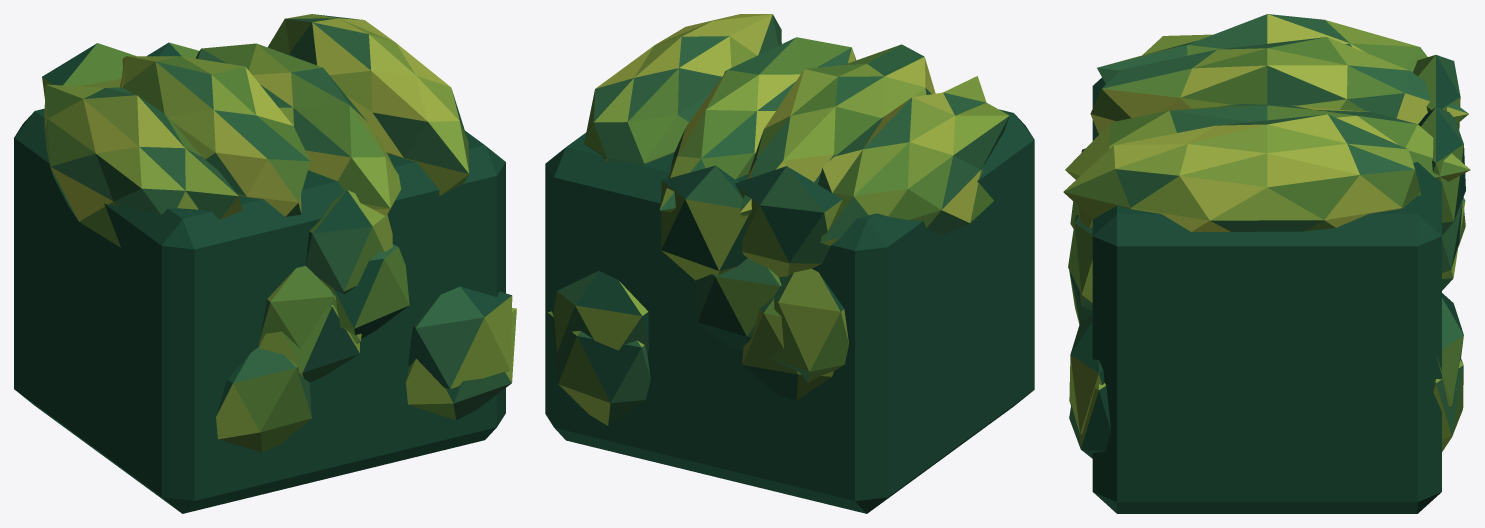
Rendered from grove_hedge.glb.
3 views of the same model, side by side, from view 1: azimuth 30°, elevation 25°; view 2: azimuth 150°, elevation 25°; view 3: azimuth 270°, elevation 25° (orthographic). The views are drawn at different scales.
Parts seen in each view (by area): view 1: grove_hedge; view 2: grove_hedge; view 3: grove_hedge.
Part boxes in pixels (box(x1,y1,x2,y2)): grove_hedge: box(14, 14, 516, 513); grove_hedge: box(545, 14, 1034, 513); grove_hedge: box(1063, 14, 1470, 513).
Bounding box in the file's own units: 2.05 × 2 × 2.01.
